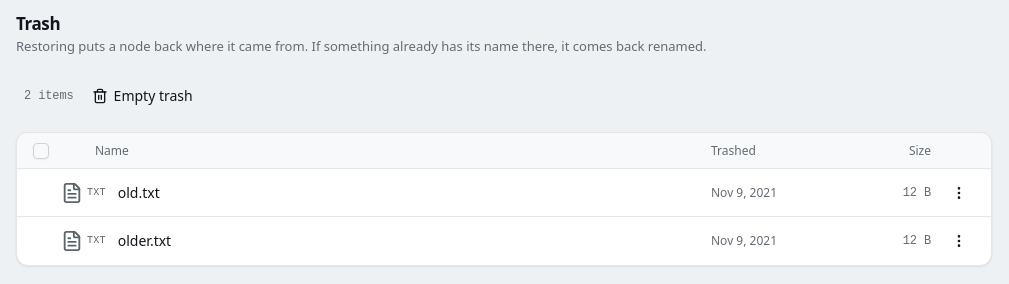
Test: the trash in bulk › leaves a row that could not be restored where it is, and names it
expect the text "old.txt" is shown: met, box x1=118 y1=182 x2=160 y2=202
Click the checkbox named "Select all" at (41, 150), box x1=33 y1=142 x2=49 y2=158
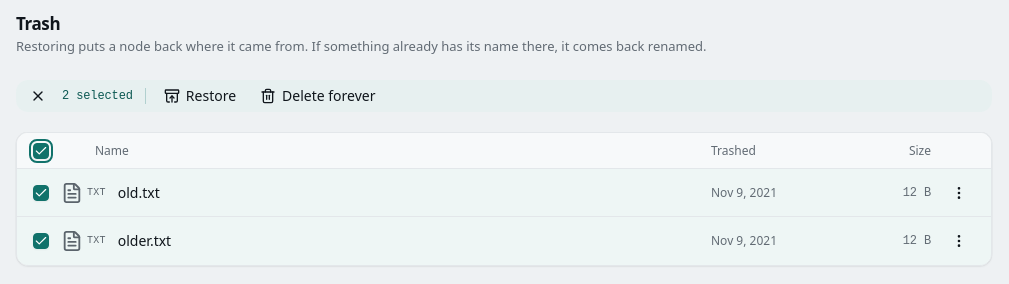
Click the button "Restore" at (200, 96), box x1=154 y1=80 x2=246 y2=112
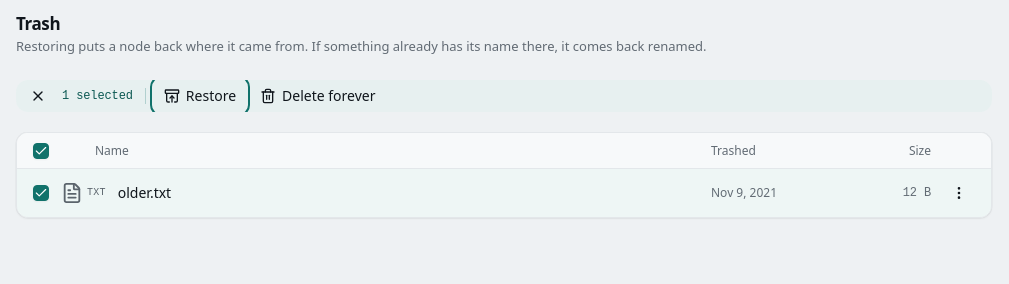
expect the text "older.txt" is shown: met, box x1=118 y1=183 x2=171 y2=202
expect the text "old.txt" is gone: met
